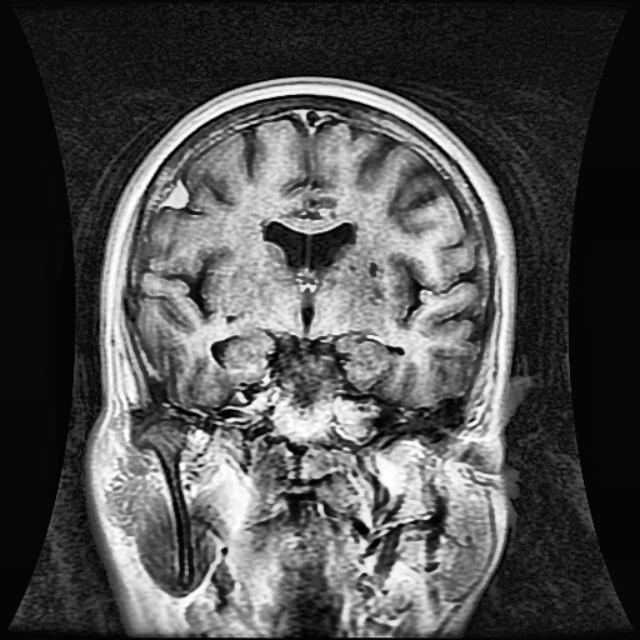Glioma: (164, 177, 188, 207)
